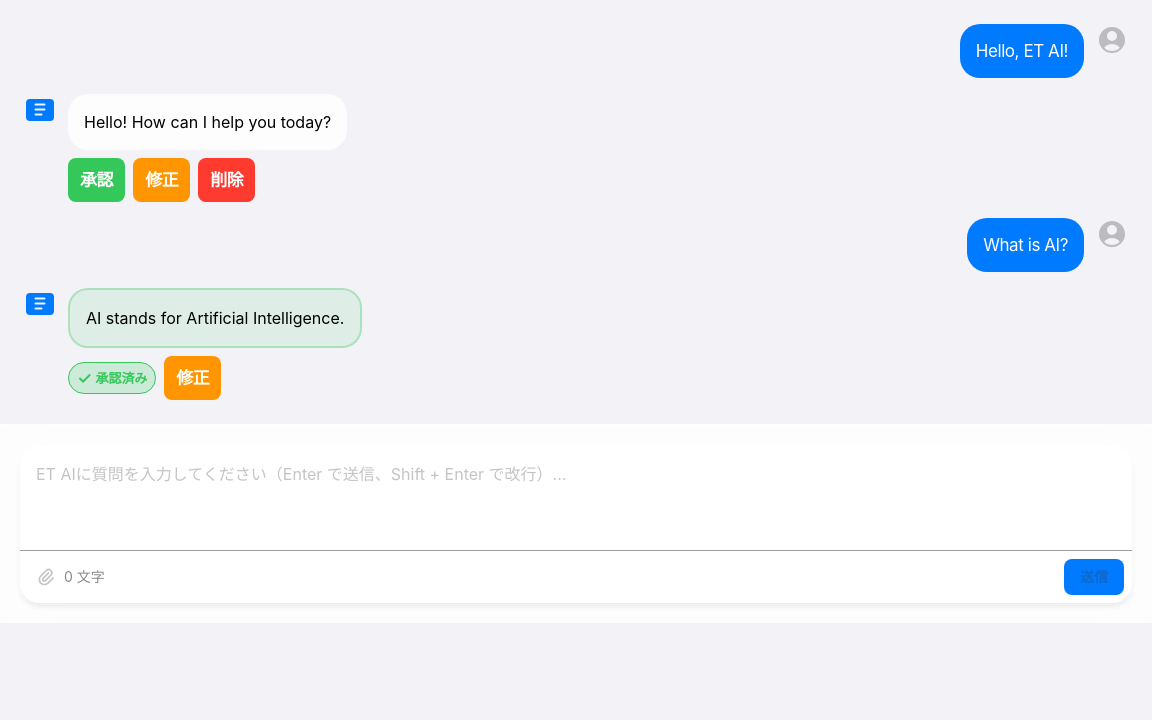
Scenario: ChatInterface Component - User Chat Experience › Message Sending - Specification: Users can send messages › should enable send button when input has text
Type "Some text" into the text box with placeholder "ET AIに質問を入力してください（Enter で送信、Shift + Enter で改行）...".
click(576, 498); type("Some text")  # box [20,446,1132,550]
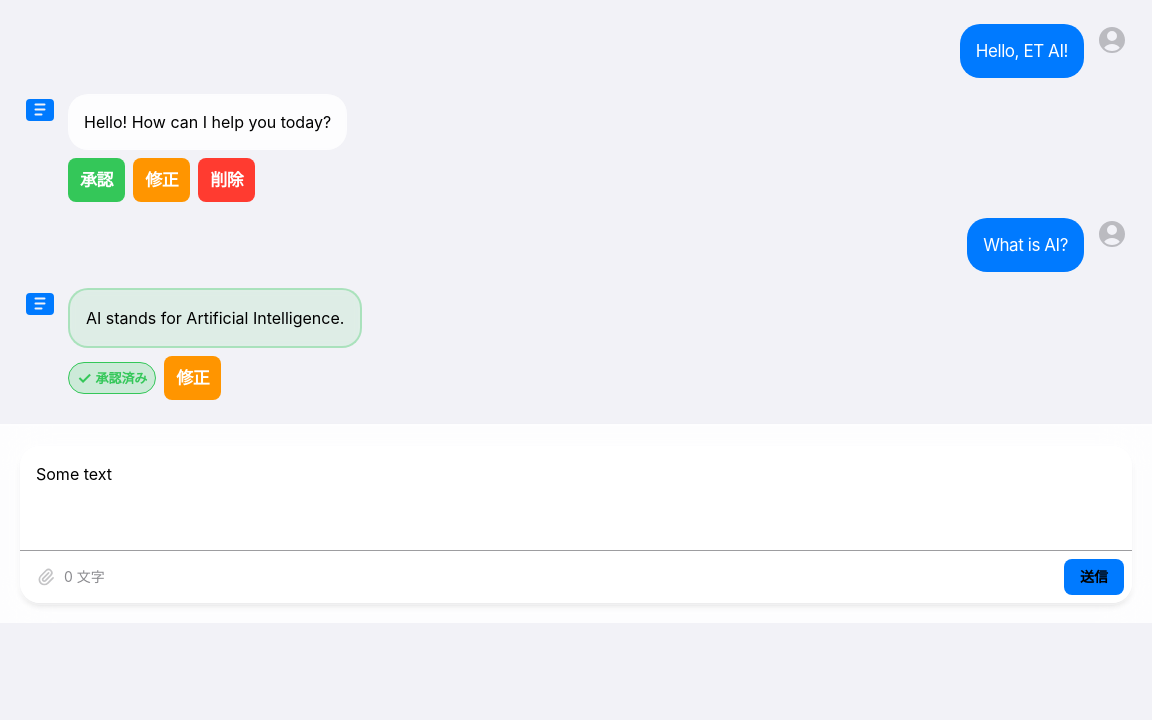
Expected: the button with aria-label "メッセージを送信" is enabled, [1064,559,1124,595]
